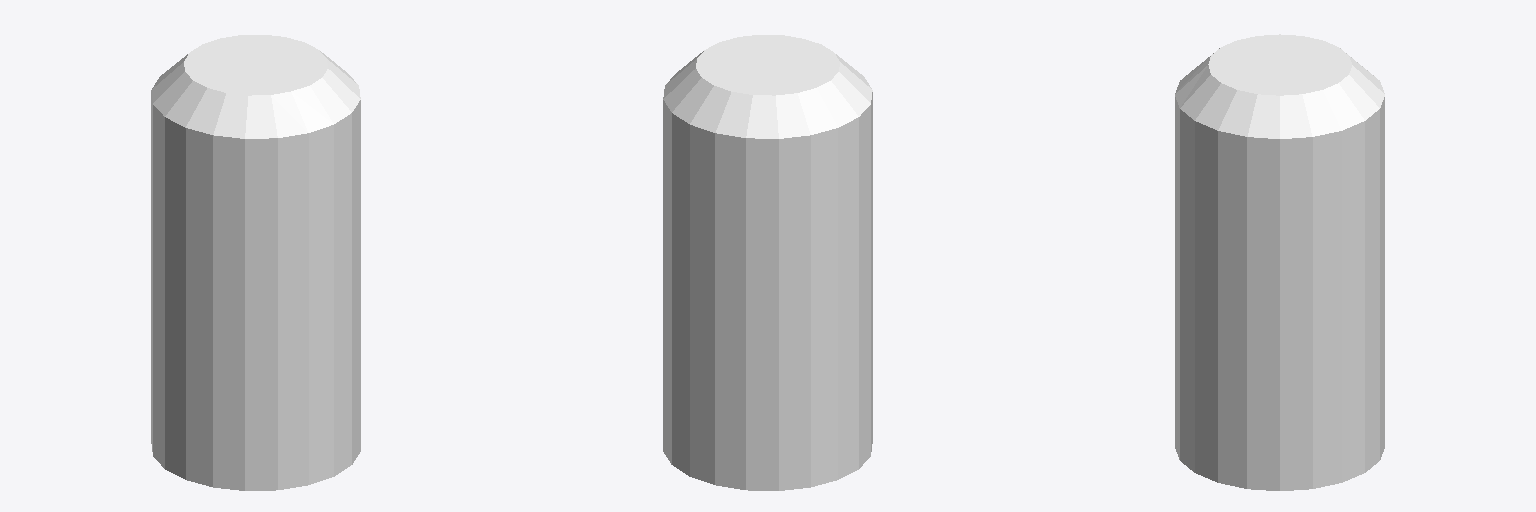
The model's file is Pillar.obj.
3 views of the same model, side by side, from view 1: azimuth 30°, elevation 25°; view 2: azimuth 150°, elevation 25°; view 3: azimuth 270°, elevation 25° (orthographic).
Visible parts, largest first — view 1: Pillar; view 2: Pillar; view 3: Pillar.
Boxes of the visible parts, <box> form: Pillar: <box>151,35,360,490</box>; Pillar: <box>663,35,872,490</box>; Pillar: <box>1175,34,1384,490</box>.
Bounding box in the file's own units: 1 × 2 × 1.